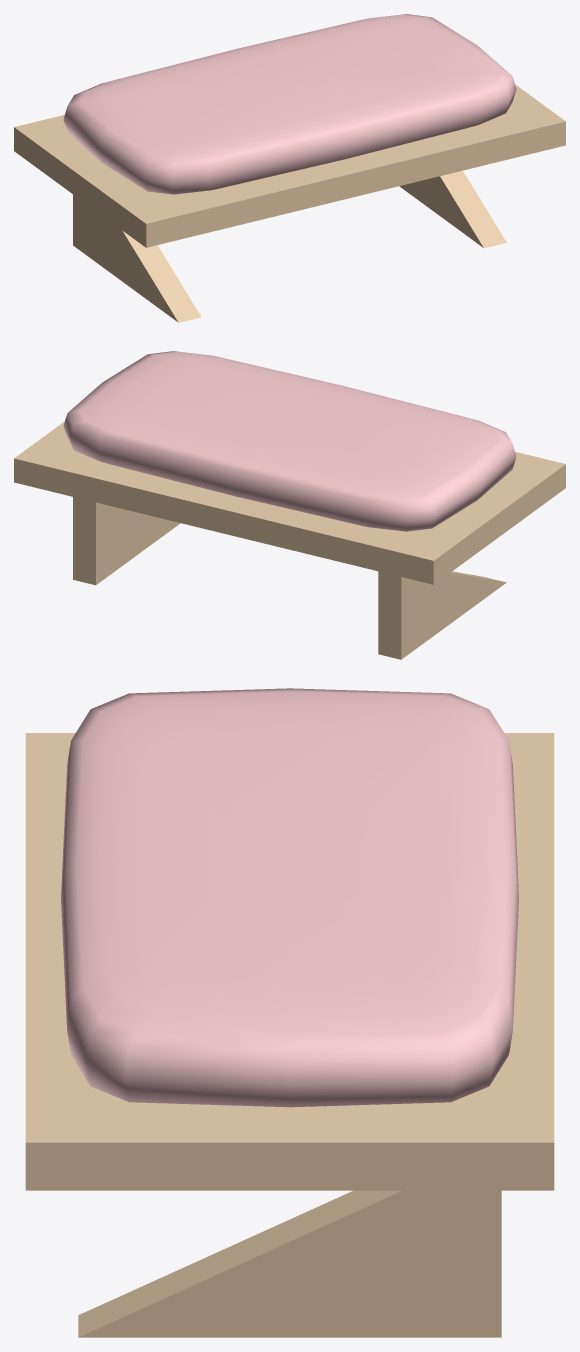
Rendered from companion-animals-and-pet-home-window-perch-72ada0f2__20646.glb.
3 renders of one model, top to bottom at view 1: azimuth 30°, elevation 25°; view 2: azimuth 150°, elevation 25°; view 3: azimuth 270°, elevation 25°, orthographic. The views are drawn at different scales.
Parts seen in each view (by area): view 1: window-perch; view 2: window-perch; view 3: window-perch.
Part boxes in pixels (x1,y1,x2,y2): window-perch: (14, 14, 565, 322); window-perch: (14, 351, 565, 659); window-perch: (25, 688, 554, 1337).
Size of the model in its own units: 0.55 by 0.2 by 0.3.
